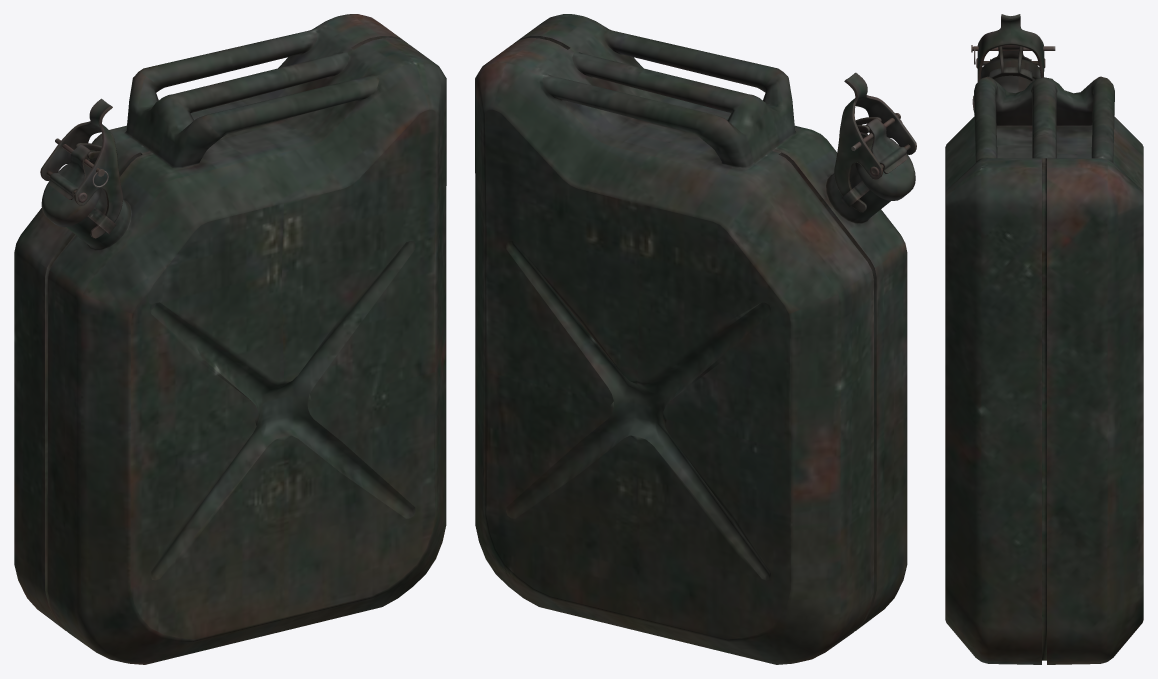
Rendered from galao_verde.glb.
The picture shows the model from 3 angles, left to right: view 1: azimuth 30°, elevation 25°; view 2: azimuth 150°, elevation 25°; view 3: azimuth 270°, elevation 25°; orthographic projection. The views are drawn at different scales.
Visible parts, largest first — view 1: galao_verde; view 2: galao_verde; view 3: galao_verde.
Part boxes in pixels (x1,y1,x2,y2): galao_verde: [14, 14, 446, 664]; galao_verde: [475, 14, 916, 664]; galao_verde: [945, 14, 1143, 664].
Size of the model in its own units: 0.3604 by 0.4999 by 0.1709.
1 material, 1 textured.
